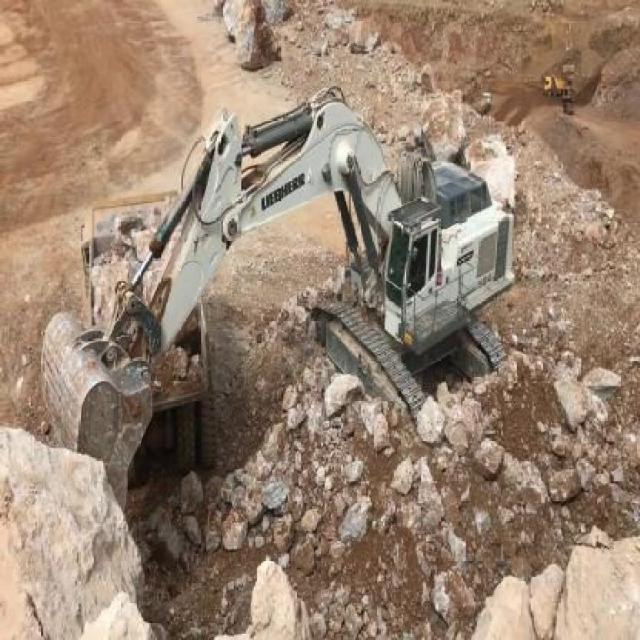dump_truck: (83, 197, 219, 469)
excavator: (36, 84, 515, 531)
